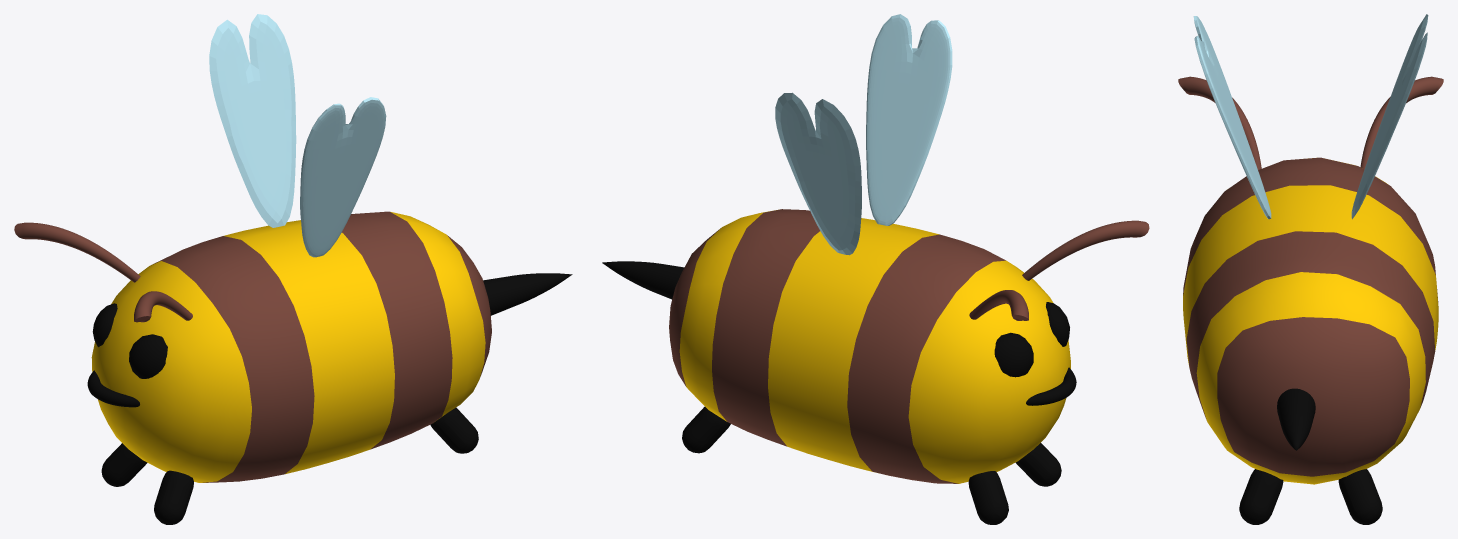
File: Bee.fbx
The picture shows the model from 3 angles, left to right: view 1: azimuth 30°, elevation 25°; view 2: azimuth 150°, elevation 25°; view 3: azimuth 270°, elevation 25°; orthographic projection. The views are drawn at different scales.
Visible parts, largest first — view 1: Retopo_NurbsCurve.001; view 2: Retopo_NurbsCurve.001; view 3: Retopo_NurbsCurve.001.
Part boxes in pixels (x1=…): Retopo_NurbsCurve.001: x1=14, y1=14, x2=572, y2=524; Retopo_NurbsCurve.001: x1=602, y1=14, x2=1149, y2=524; Retopo_NurbsCurve.001: x1=1178, y1=14, x2=1443, y2=524.
Size of the model in its own units: 507 by 404 by 226.
